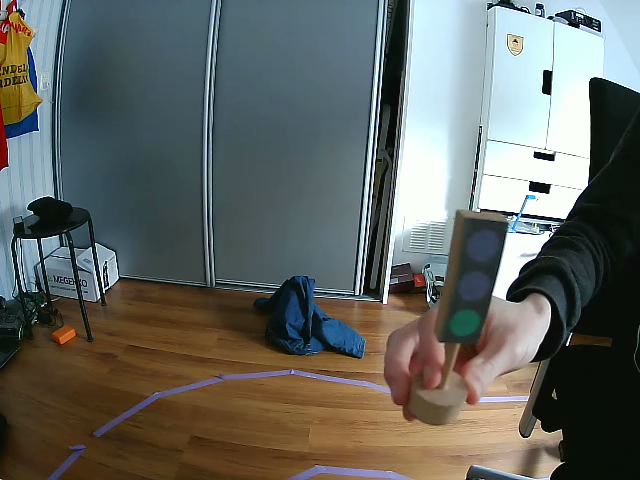groenlicht: (440, 220, 507, 343)
